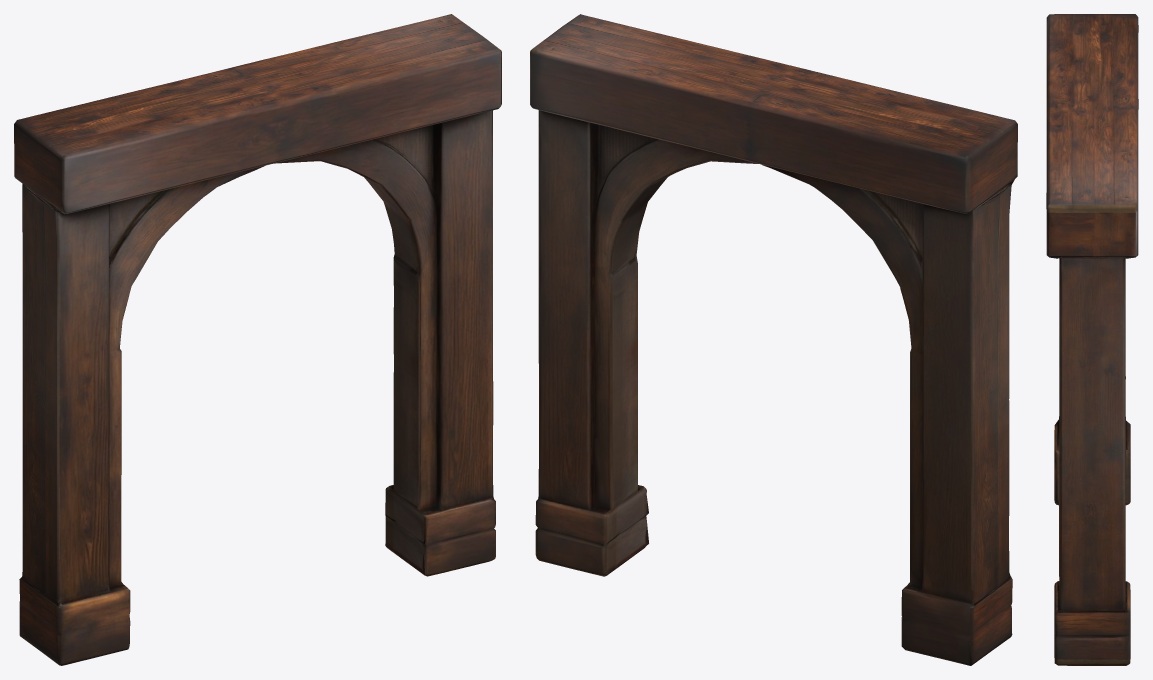
File: arch.glb
3 renders of one model, left to right at view 1: azimuth 30°, elevation 25°; view 2: azimuth 150°, elevation 25°; view 3: azimuth 270°, elevation 25°, orthographic. The views are drawn at different scales.
Size of the model in its own units: 1.79 by 2 by 0.3602.
1 material, 1 textured.
